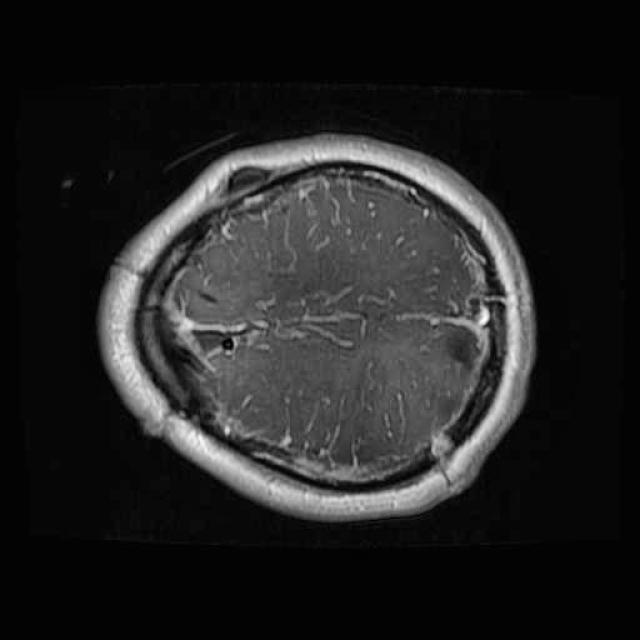Tumor: (430, 304, 505, 404)
